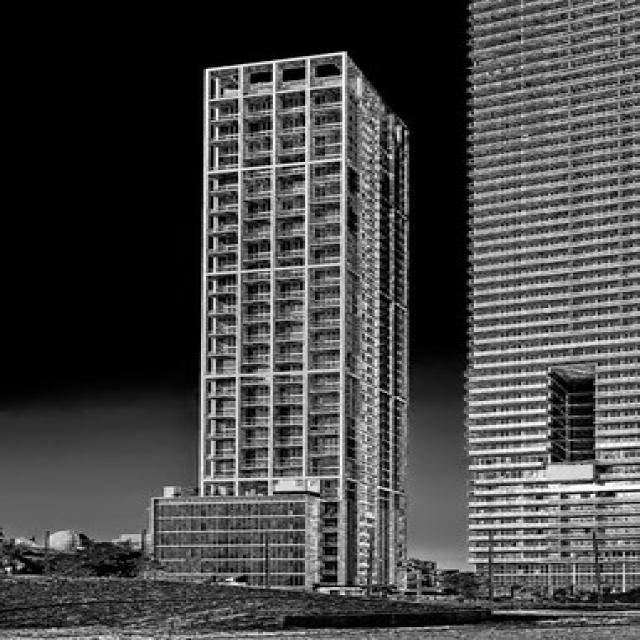building: (189, 48, 414, 595)
